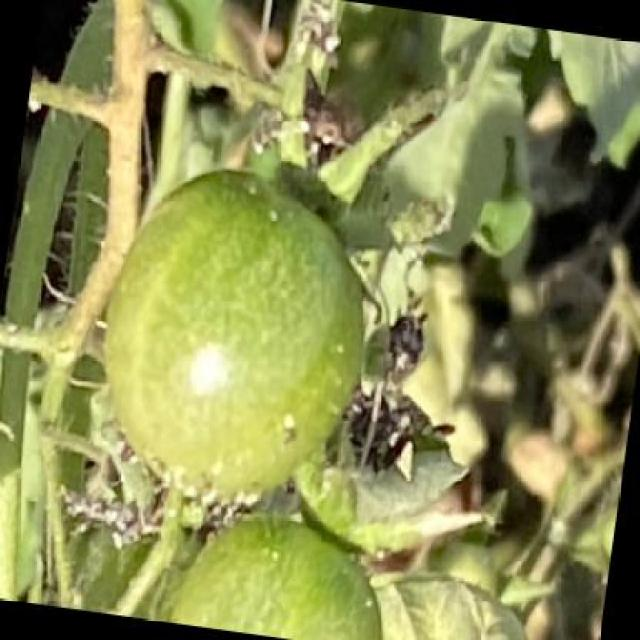unripe tomato: (76, 152, 392, 525)
